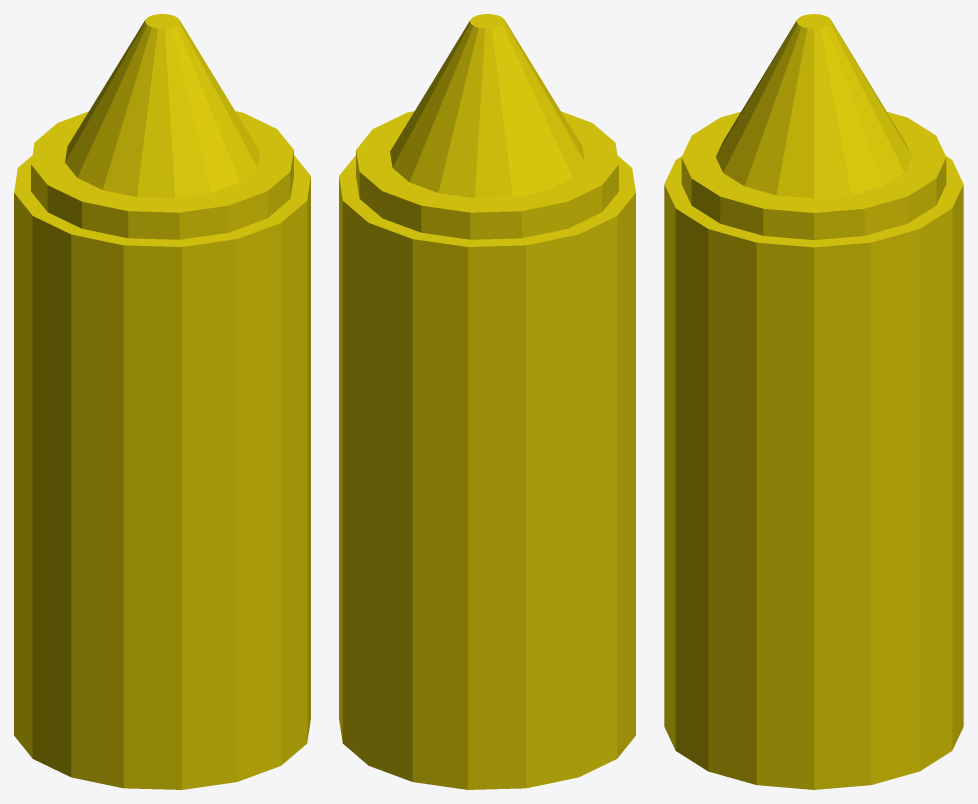
The model's file is Mustard.glb.
3 views of the same model, side by side, from view 1: azimuth 30°, elevation 25°; view 2: azimuth 150°, elevation 25°; view 3: azimuth 270°, elevation 25° (orthographic).
Parts seen in each view (by area): view 1: Cylinder; view 2: Cylinder; view 3: Cylinder.
Boxes of the visible parts, x1,y1,x2,y2 form: Cylinder: [14, 14, 310, 789]; Cylinder: [339, 14, 635, 789]; Cylinder: [664, 14, 963, 789].
Bounding box in the file's own units: 0.1 × 0.26 × 0.1.
